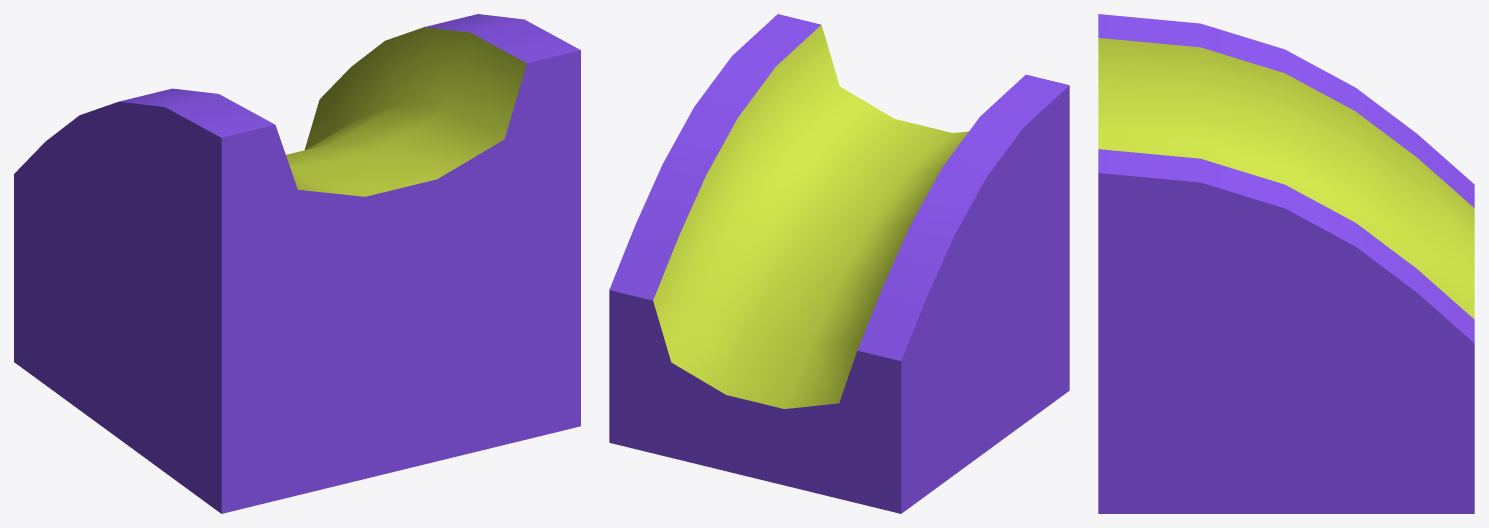
Rendered from rampEnd_solid_C.fbx.
3 views of the same model, side by side, from view 1: azimuth 30°, elevation 25°; view 2: azimuth 150°, elevation 25°; view 3: azimuth 270°, elevation 25° (orthographic). The views are drawn at different scales.
Parts seen in each view (by area): view 1: rampEnd_solid_C; view 2: rampEnd_solid_C; view 3: rampEnd_solid_C.
Boxes of the visible parts, left/top/right/bottom form: rampEnd_solid_C: left=14, top=14, right=580, bottom=513; rampEnd_solid_C: left=609, top=14, right=1069, bottom=513; rampEnd_solid_C: left=1098, top=14, right=1474, bottom=513.
Bounding box in the file's own units: 10 × 10 × 10.
